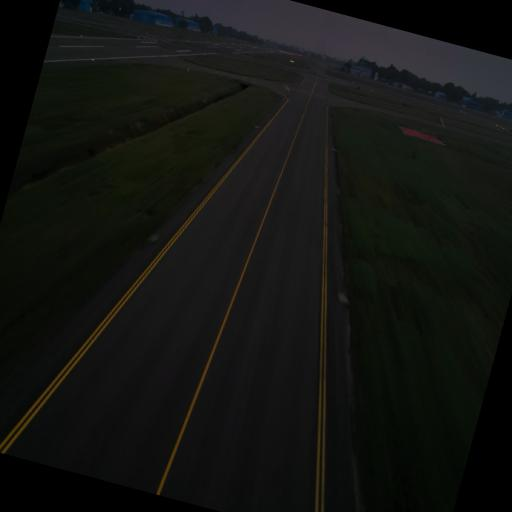on: (338, 288, 345, 299), (150, 230, 156, 240)
